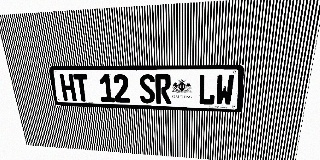1: (98, 74, 115, 102)
2: (113, 74, 130, 103)
H: (59, 74, 77, 101)
L: (198, 74, 216, 105)
R: (155, 74, 171, 104)
S: (139, 74, 155, 103)
T: (73, 74, 90, 102)
W: (215, 74, 235, 106)
